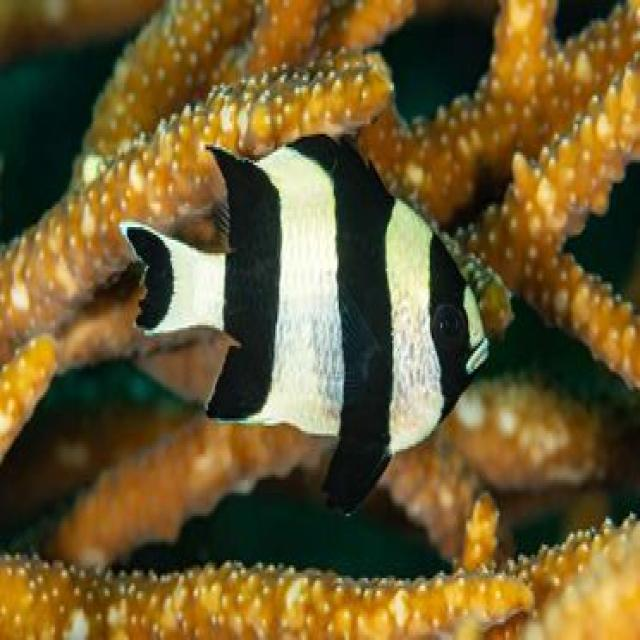ThreeStripedDamselfish: (109, 129, 491, 508)
